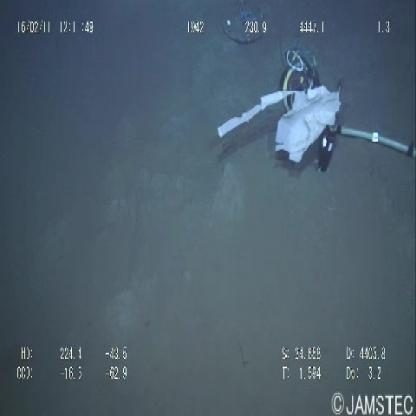Rác: (216, 76, 343, 170)
